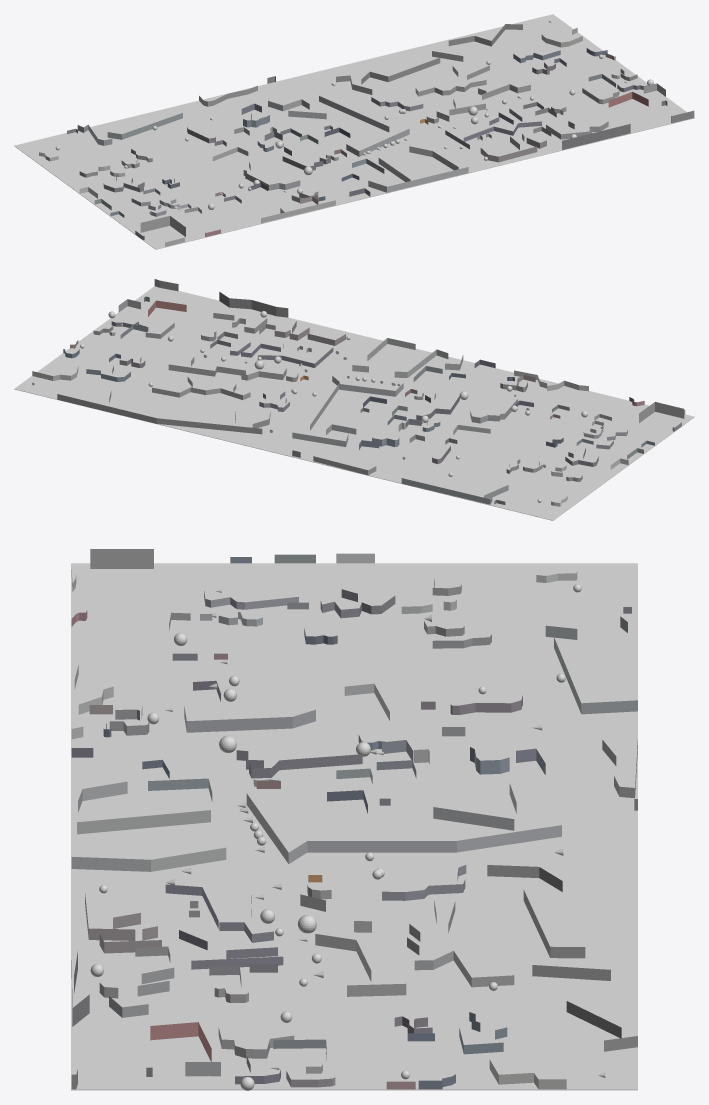
Rendered from scene_17ab5eec-4225-4598-8d70-99b38f3aec9f.glb.
The picture shows the model from 3 angles, top to bottom: view 1: azimuth 30°, elevation 25°; view 2: azimuth 150°, elevation 25°; view 3: azimuth 270°, elevation 25°; orthographic projection. The views are drawn at different scales.
Parts seen in each view (by area): view 1: Ground_Base, BLD-081, BLD-077, BLD-026, BLD-036, BLD-004, BLD-084, BLD-056, BLD-013, BLD-074, BLD-012, BLD-008 (+1 smaller); view 2: Ground_Base, BLD-081, BLD-077, BLD-026, BLD-056, BLD-084, BLD-004, BLD-036, BLD-074, BLD-013, BLD-012, BLD-008; view 3: Ground_Base, BLD-077, BLD-026, BLD-081, BLD-036, BLD-056, BLD-013, BLD-040, BLD-084, BLD-048, BLD-016, BLD-074 (+5 smaller).
Part boxes in pixels (x1,y1,x2,y2): Ground_Base: (14,14,694,249); BLD-081: (336,24,522,94); BLD-077: (268,96,409,156); BLD-026: (368,146,468,192); BLD-036: (445,108,541,149); BLD-004: (562,124,630,149); BLD-084: (77,113,182,145); BLD-056: (436,84,530,121); BLD-013: (480,134,546,162); BLD-074: (415,65,489,96); BLD-012: (140,216,185,236); BLD-008: (261,200,335,223); Ground_Base: (14,286,694,520); BLD-081: (57,391,270,434); BLD-077: (292,376,403,446); BLD-026: (352,338,463,377); BLD-056: (168,357,286,380); BLD-084: (401,478,508,504); BLD-004: (219,292,288,317); BLD-036: (230,342,333,367); BLD-074: (152,377,250,399); BLD-013: (274,321,345,345); BLD-012: (639,402,684,422); BLD-008: (514,370,588,391); Ground_Base: (71,563,637,1090); BLD-077: (246,783,561,863); BLD-026: (71,781,226,871); BLD-081: (487,865,637,1051); BLD-036: (165,884,283,969); BLD-056: (300,894,406,996); BLD-013: (85,893,161,953); BLD-040: (184,706,315,732); BLD-084: (545,616,637,714); BLD-048: (236,750,362,778); BLD-016: (99,967,174,1017); BLD-074: (407,900,514,987).
Bounding box in the file's own units: 643 × 12.55 × 292.
